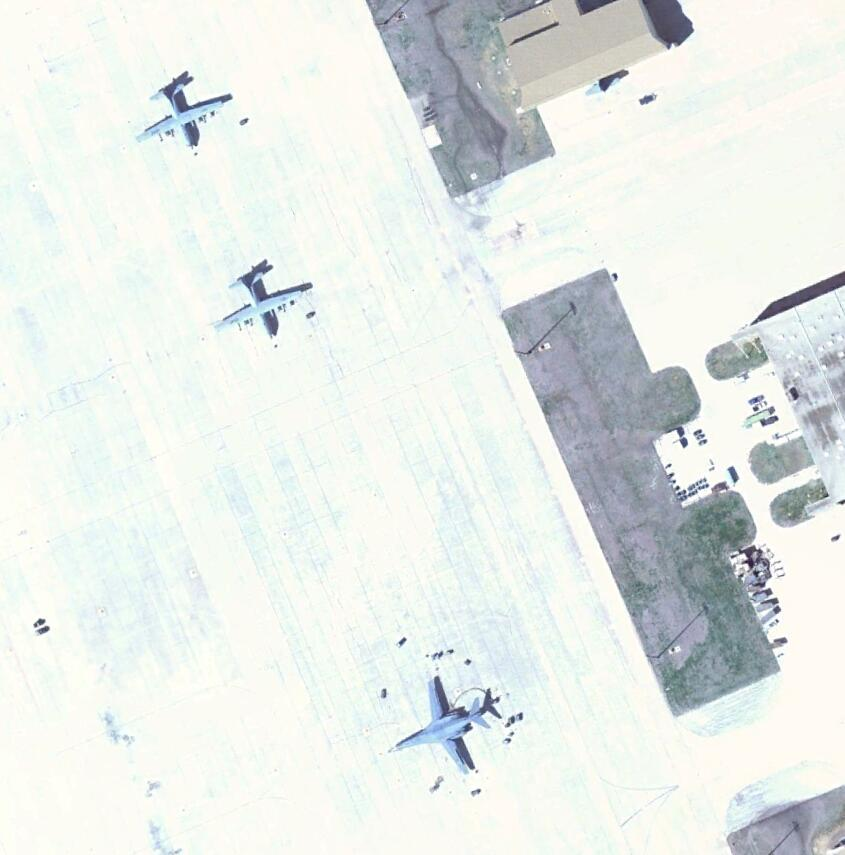A10: (388, 667, 505, 781)
A2: (135, 64, 236, 158), (212, 256, 318, 337)
